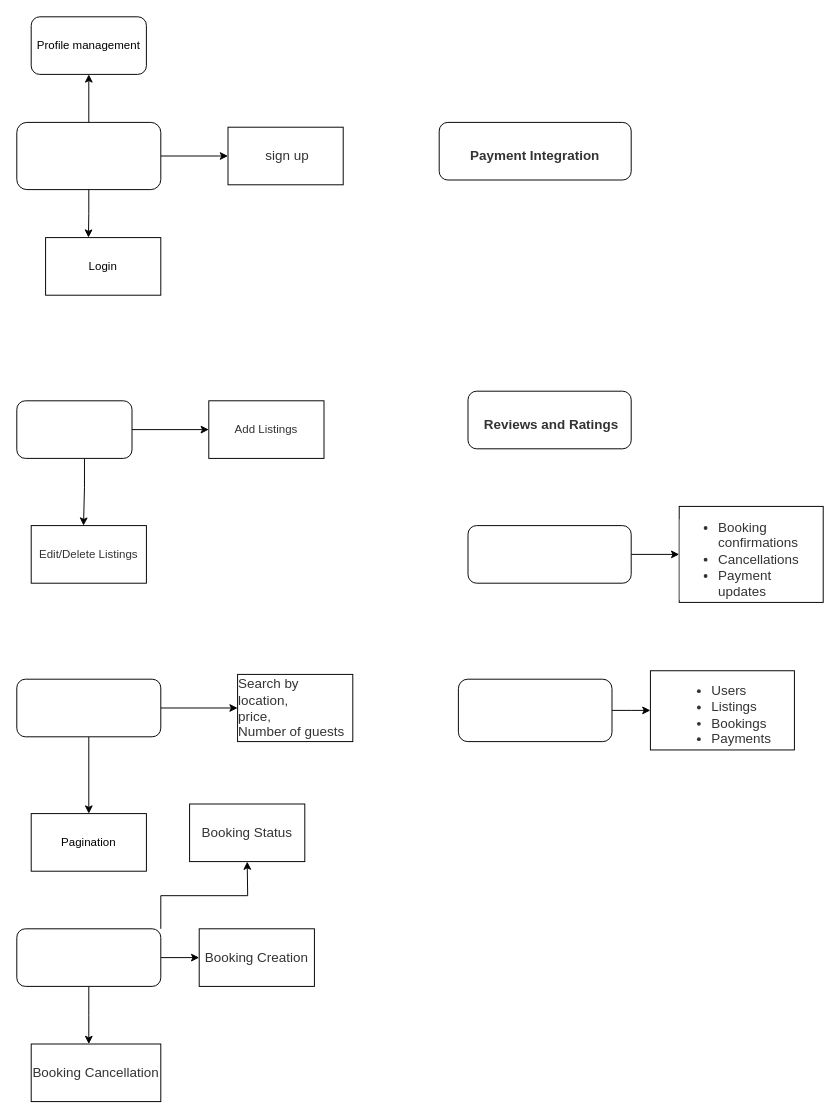
Some shapes in this 840 by 1118 pixel diagram are drawn without their labels. The shapes that lost their labels are listed below. From the top down, each one's centre as x and y in pixels, then its label:
the point at 88,155: User Management
the point at 74,429: Property
the point at 549,554: Notifications System
the point at 88,707: Search and Filtering
the point at 534,710: Admin Dashboard
the point at 88,957: Booking Management
